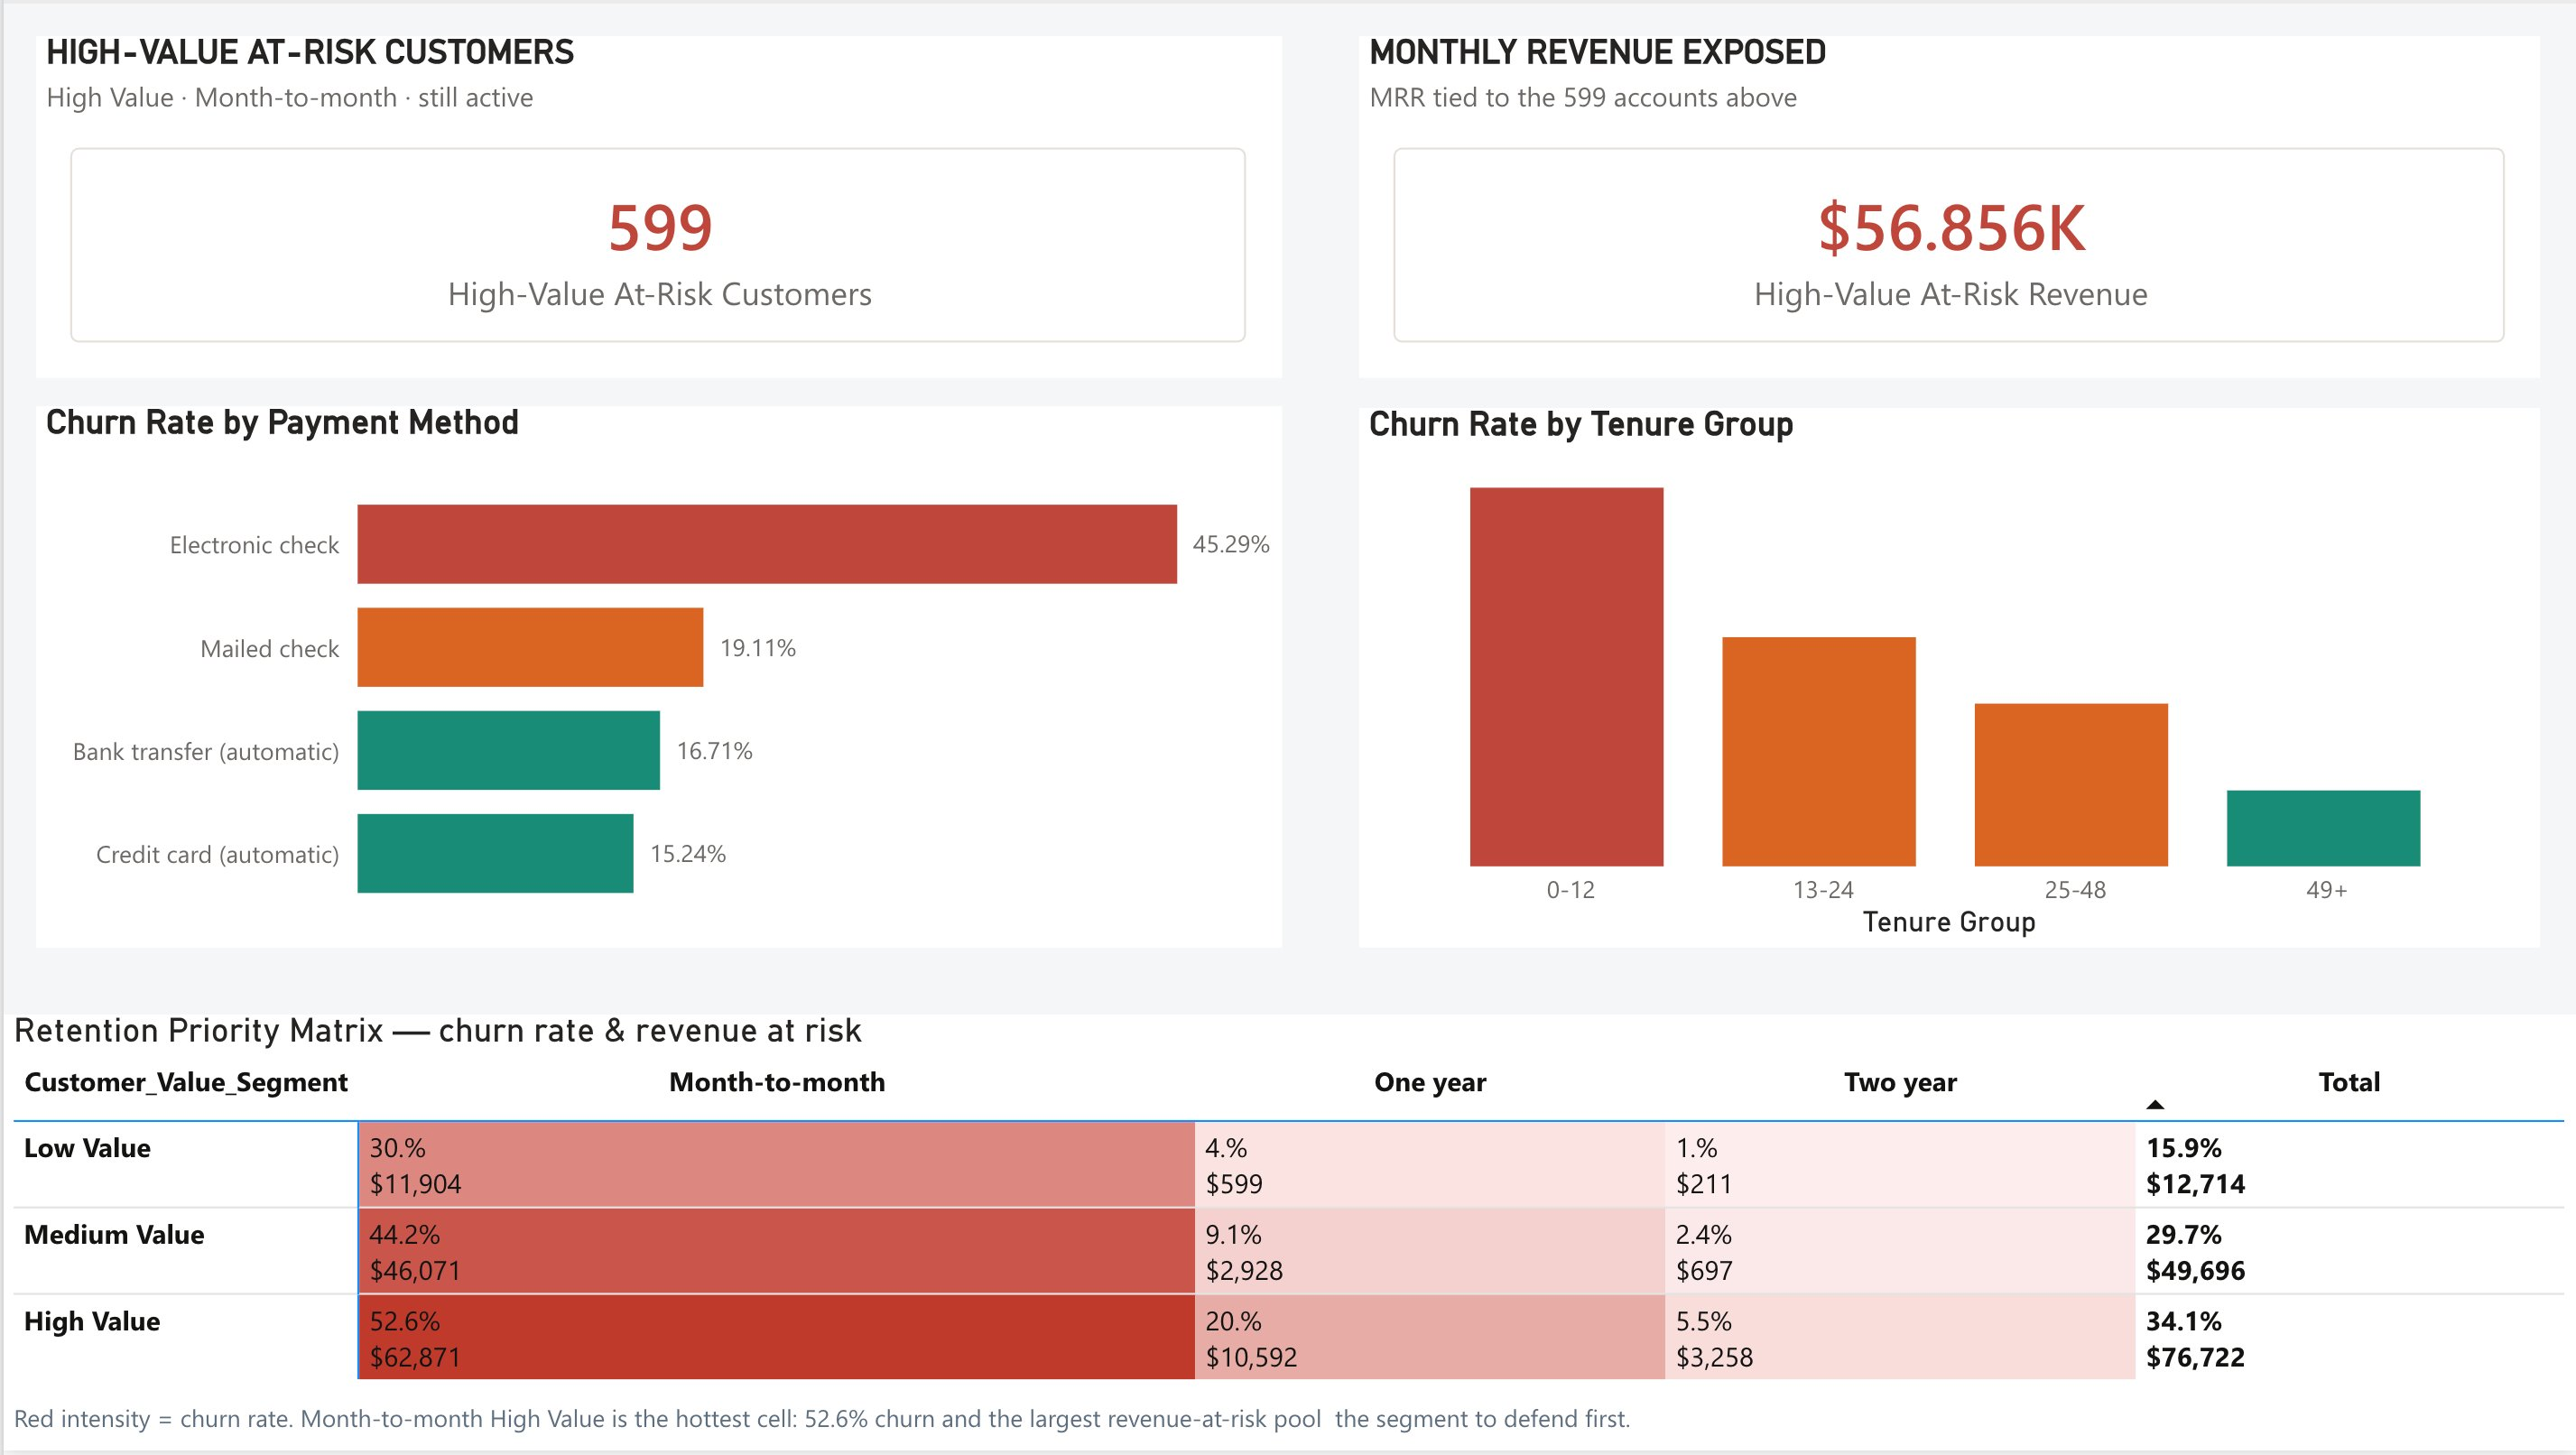

The dashboard page shown, as its layout file describes it:
{"tool":"powerbi","page":{"name":"Page 4","canvas":[1280,720],"ordinal":3},"visuals":[{"type":"cardVisual","title":"HIGH-VALUE AT-RISK CUSTOMERS","fields":{"Data":["telco_churn_cleaned.High-Value At-Risk Customers"]},"box":[16.2,16.2,619.8,169.8],"z":0},{"type":"cardVisual","title":"MONTHLY REVENUE EXPOSED","fields":{"Data":["telco_churn_cleaned.High-Value At-Risk Revenue"]},"box":[674.6,16.2,587.5,169.8],"z":1000},{"type":"clusteredBarChart","title":"Churn Rate by Payment Method","fields":{"Category":["telco_churn_cleaned.PaymentMethod"],"Y":["telco_churn_cleaned.Churn Rate"]},"box":[16.2,200.3,619.8,269.5],"z":2000},{"type":"pivotTable","title":"Retention Priority Matrix — churn rate & revenue at risk","fields":{"Columns":["telco_churn_cleaned.Contract"],"Rows":["telco_churn_cleaned.Customer_Value_Segment"],"Values":["telco_churn_cleaned.Risk Cell"]},"box":[0,503,1280,217.4],"z":2001},{"type":"textbox","box":[0,689,1280,31.4],"z":2002},{"type":"columnChart","title":"Churn Rate by Tenure Group","fields":{"Category":["telco_churn_cleaned.Tenure_Group"],"Y":["telco_churn_cleaned.Churn Rate"]},"box":[674.6,201.2,587.5,268.6],"z":2003}]}

Visuals, with their boxes in screenshot pixels (x1, y1, x2, y2), scaled from the page's 1280x720 canvas onto the 2576x1455 screenshot:
"HIGH-VALUE AT-RISK CUSTOMERS" cardVisual: {"left": 32, "top": 32, "right": 1280, "bottom": 375}
"MONTHLY REVENUE EXPOSED" cardVisual: {"left": 1357, "top": 32, "right": 2540, "bottom": 375}
"Churn Rate by Payment Method" clusteredBarChart: {"left": 32, "top": 404, "right": 1280, "bottom": 950}
"Retention Priority Matrix — churn rate & revenue at risk" pivotTable: {"left": 0, "top": 1016, "right": 2575, "bottom": 1454}
textbox: {"left": 0, "top": 1393, "right": 2575, "bottom": 1454}
"Churn Rate by Tenure Group" columnChart: {"left": 1357, "top": 406, "right": 2540, "bottom": 950}
